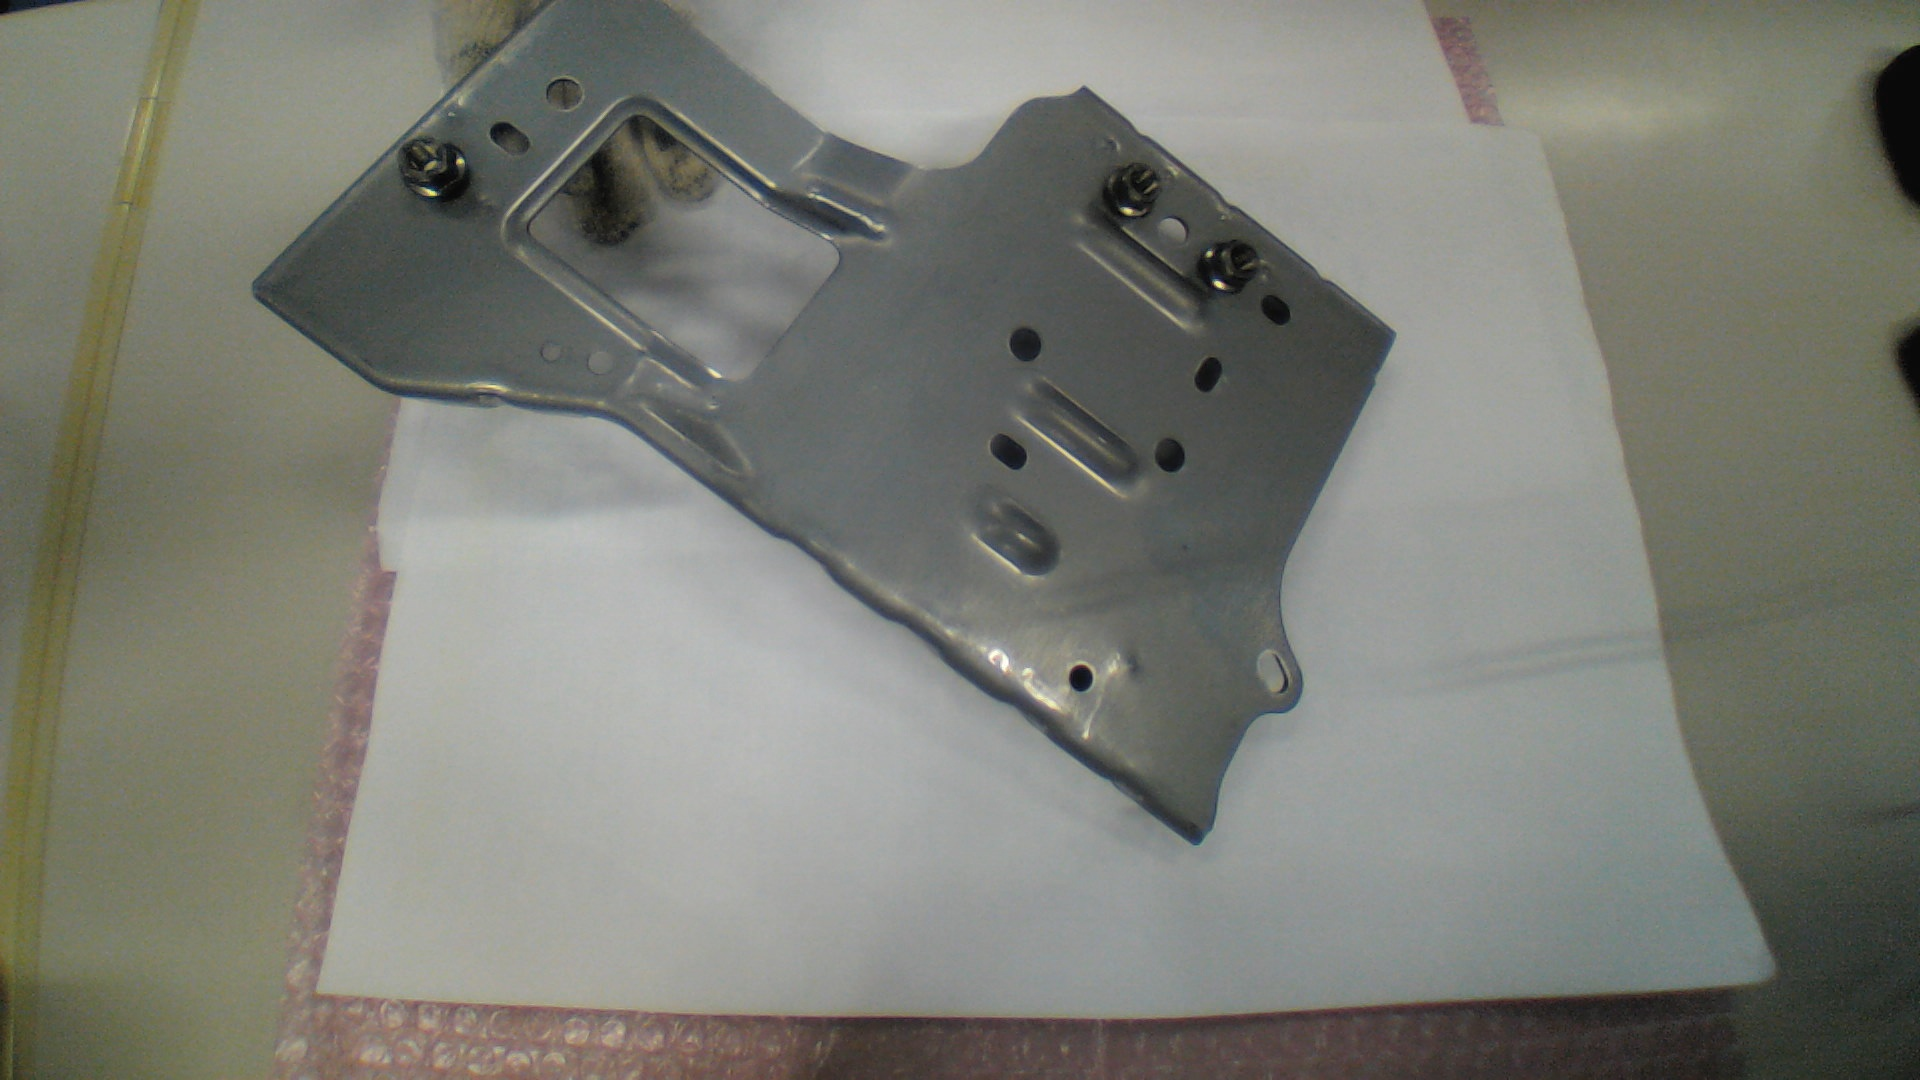dog: (398, 135, 471, 204), (1101, 161, 1166, 223), (1201, 240, 1261, 291)
